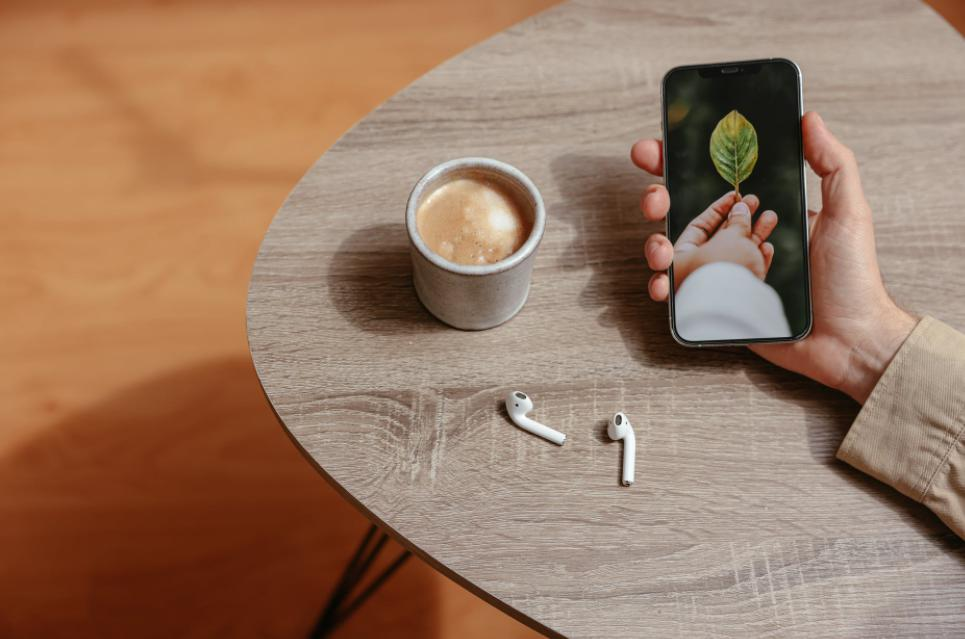mobile: (660, 58, 808, 345)
